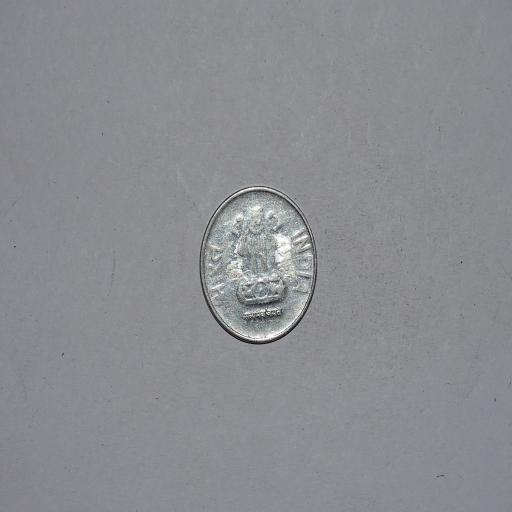rupee2: (198, 184, 320, 345)
